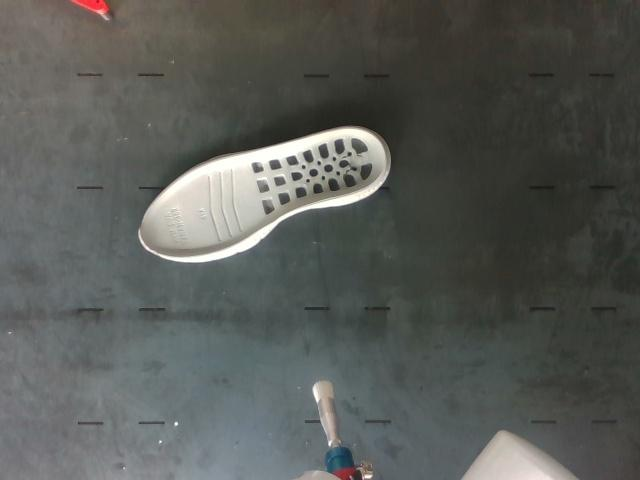shoes: (141, 129, 386, 257)
